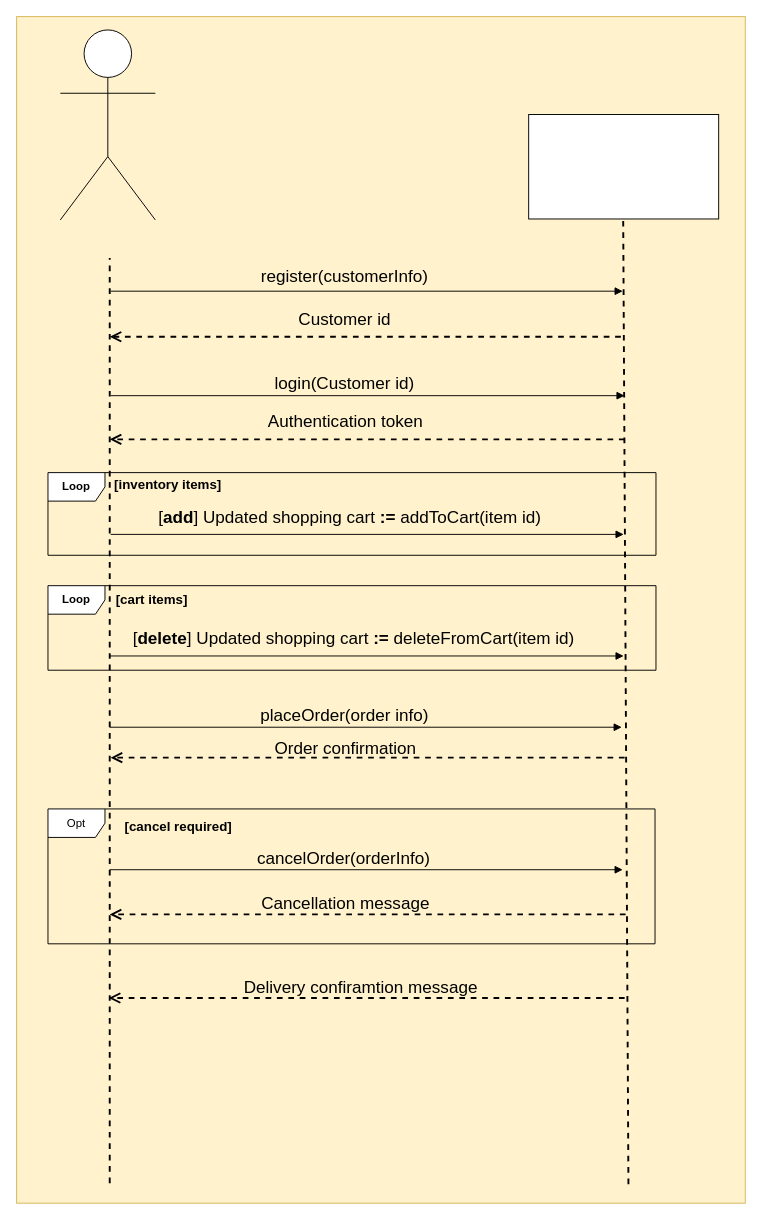
This 762x1220 diagram has some shape labels left out. Here are the shapes that lost their labels. From the top down, the centre of each, then its label:
At point (107, 124): "Customer".
At point (623, 166): ":System".
